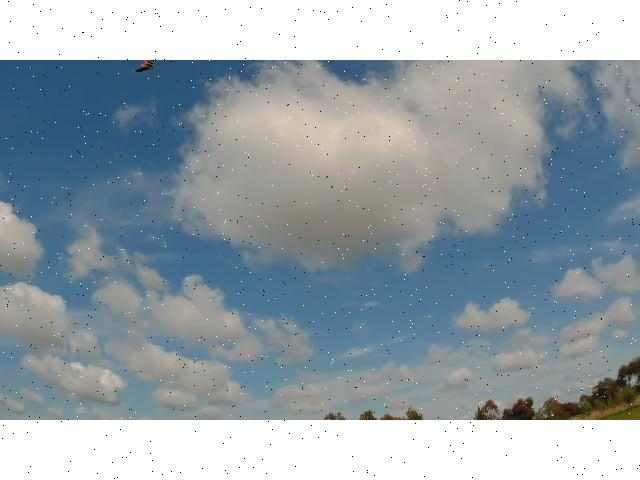Anti-Drone: (119, 61, 185, 83)
